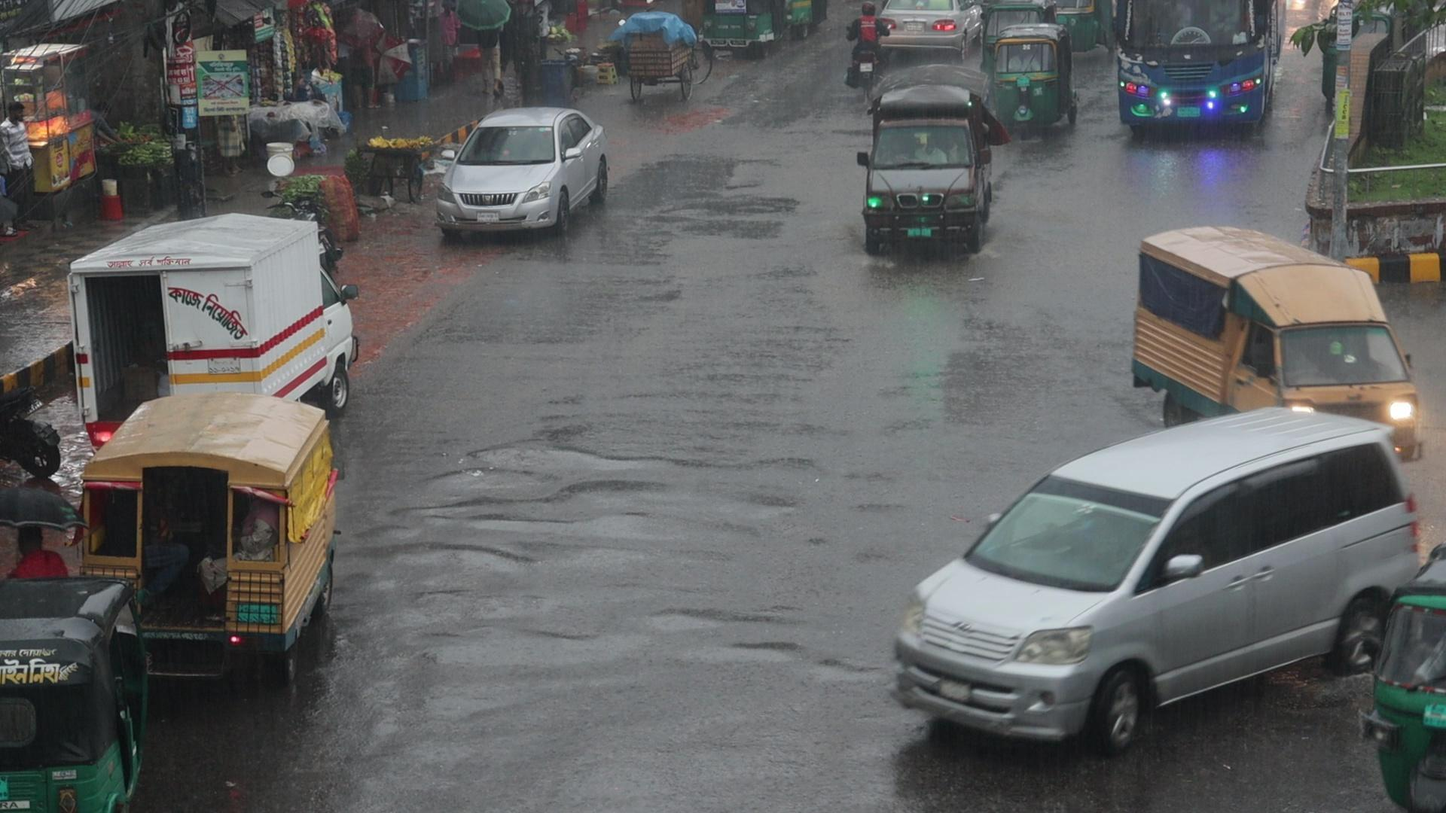Bike: (847, 1, 883, 101)
Car: (890, 408, 1416, 754)
Truck: (80, 390, 342, 661), (1130, 221, 1420, 416), (856, 66, 993, 257)
